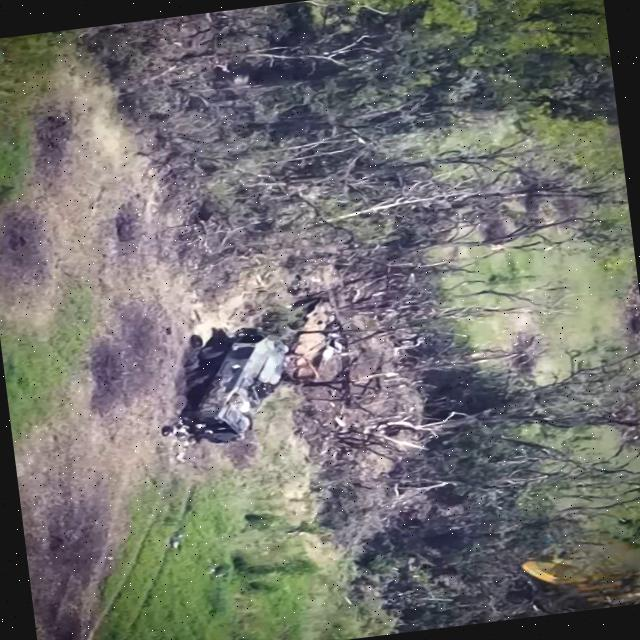APC: (161, 321, 293, 453)
Destroyed: (273, 295, 351, 387)
